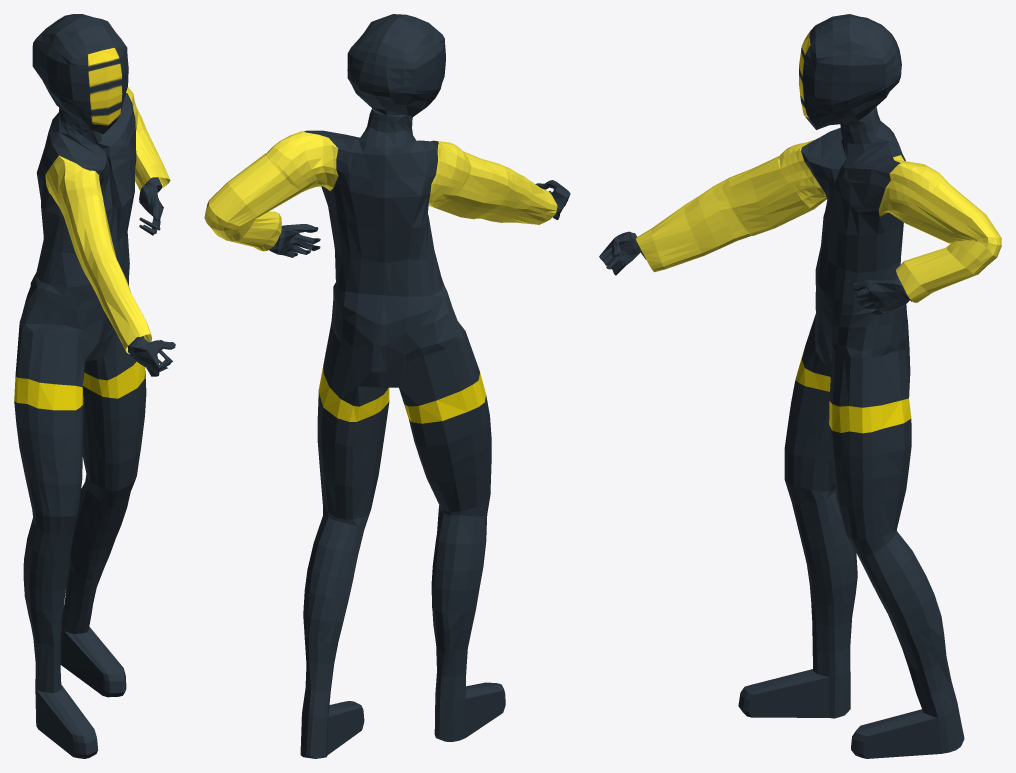
The model's file is Sentry_WB_000015.obj.
3 views of the same model, side by side, from view 1: azimuth 30°, elevation 25°; view 2: azimuth 150°, elevation 25°; view 3: azimuth 270°, elevation 25° (orthographic). The views are drawn at different scales.
Visible parts, largest first — view 1: Cube; view 2: Cube; view 3: Cube.
Part boxes in pixels (left/top/right/bottom): Cube: left=14, top=14, right=175, bottom=758; Cube: left=204, top=14, right=570, bottom=758; Cube: left=599, top=14, right=1001, bottom=758.
Size of the model in its own units: 1.15 by 3.9 by 1.98.
